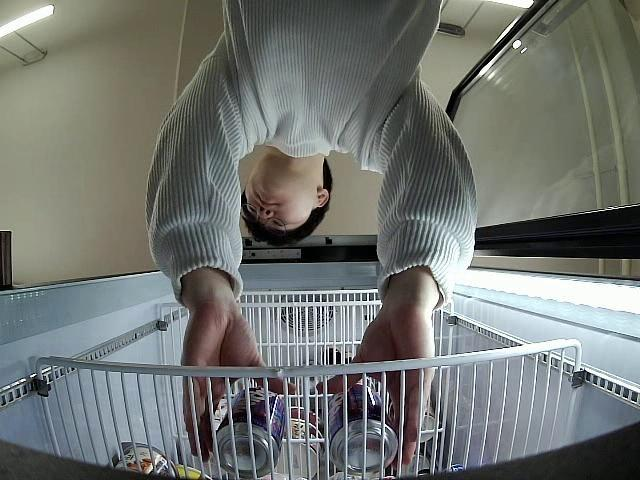14_welchsGrape: (328, 380, 397, 476), (216, 388, 283, 479)
